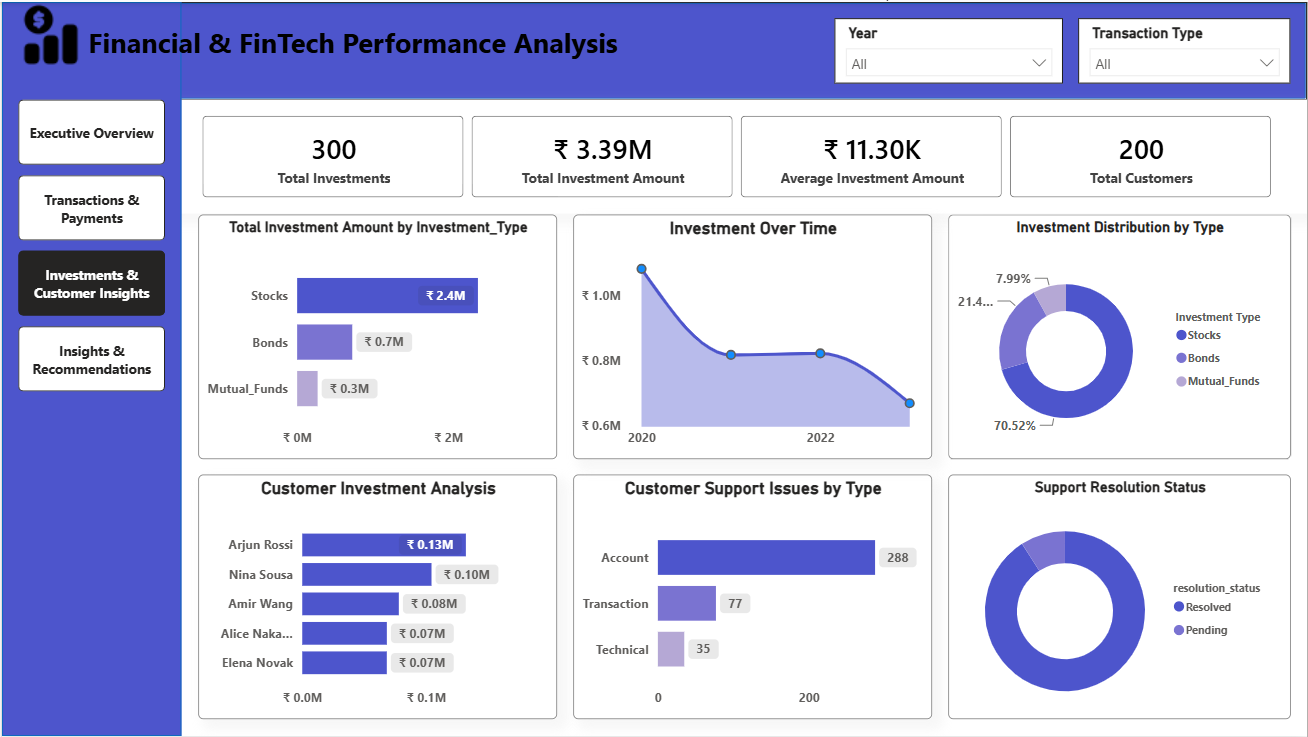

Layout of this report page (visuals, bound fields, positions):
{"tool":"powerbi","page":{"name":"Investments & Customer Insights","canvas":[1280,720],"ordinal":2},"visuals":[{"type":"shape","box":[0,0,1280,96],"z":0},{"type":"cardVisual","fields":{"Data":["Measure_Table.Total Investments","Measure_Table.Total Investment Amount","Measure_Table.Average Investment Amount","Measure_Table.Total Customers"]},"box":[160,96,1120,112],"z":1000},{"type":"barChart","title":"Total Investment Amount by Investment_Type","fields":{"Y":["Measure_Table.Total Investment Amount"],"Category":["fact_Investments.investment_type"]},"box":[192,208,352,240],"z":2000},{"type":"shape","box":[0,0,176,720],"z":3000},{"type":"slicer","fields":{"Values":["Dim_Date.Year"]},"box":[816,16,224,64],"z":4000},{"type":"slicer","fields":{"Values":["fact_Transaction_ table.transaction_type"]},"box":[1056,16,208,64],"z":5000},{"type":"textbox","box":[80,16,576,64],"z":6000},{"type":"pageNavigator","box":[16,96,144,288],"z":7000},{"type":"donutChart","title":"Investment Distribution by Type","fields":{"Y":["Measure_Table.Total Investment Amount"],"Category":["fact_Investments.investment_type"]},"box":[928,208,336,240],"z":8000},{"type":"barChart","title":"Customer Investment Analysis","fields":{"Category":["Dim_Customers.full_name"],"Y":["Measure_Table.Total Investment Amount"]},"box":[192,464,352,240],"z":9000},{"type":"clusteredBarChart","title":"Customer Support Issues by Type","fields":{"Category":["Fact_customer_support.issue_type"],"Y":["Measure_Table.Total Support Interactions"]},"box":[560,464,352,240],"z":10000},{"type":"donutChart","title":"Support Resolution Status","fields":{"Y":["Measure_Table.Total Support Interactions"],"Category":["Fact_customer_support.resolution_status"]},"box":[928,464,336,240],"z":11000},{"type":"areaChart","title":" Investment Over Time","fields":{"Category":["Dim_Date.Year"],"Y":["Measure_Table.Total Investment Amount"]},"box":[560,208,352,240],"z":12000},{"type":"image","box":[0,0,96,64],"z":13000}]}

Visuals, with their boxes in screenshot pixels (x1, y1, x2, y2), scaled from the page's 1280x720 canvas onto the 1308x737 screenshot:
shape: left=0, top=0, right=1307, bottom=98
cardVisual - Measure_Table.Total Investments x Measure_Table.Total Investment Amount: left=164, top=98, right=1307, bottom=213
"Total Investment Amount by Investment_Type" barChart: left=196, top=213, right=556, bottom=459
shape: left=0, top=0, right=180, bottom=736
slicer - Dim_Date.Year: left=834, top=16, right=1063, bottom=82
slicer - fact_Transaction_ table.transaction_type: left=1079, top=16, right=1292, bottom=82
textbox: left=82, top=16, right=670, bottom=82
pageNavigator: left=16, top=98, right=164, bottom=393
"Investment Distribution by Type" donutChart: left=948, top=213, right=1292, bottom=459
"Customer Investment Analysis" barChart: left=196, top=475, right=556, bottom=721
"Customer Support Issues by Type" clusteredBarChart: left=572, top=475, right=932, bottom=721
"Support Resolution Status" donutChart: left=948, top=475, right=1292, bottom=721
" Investment Over Time" areaChart: left=572, top=213, right=932, bottom=459
image: left=0, top=0, right=98, bottom=66
